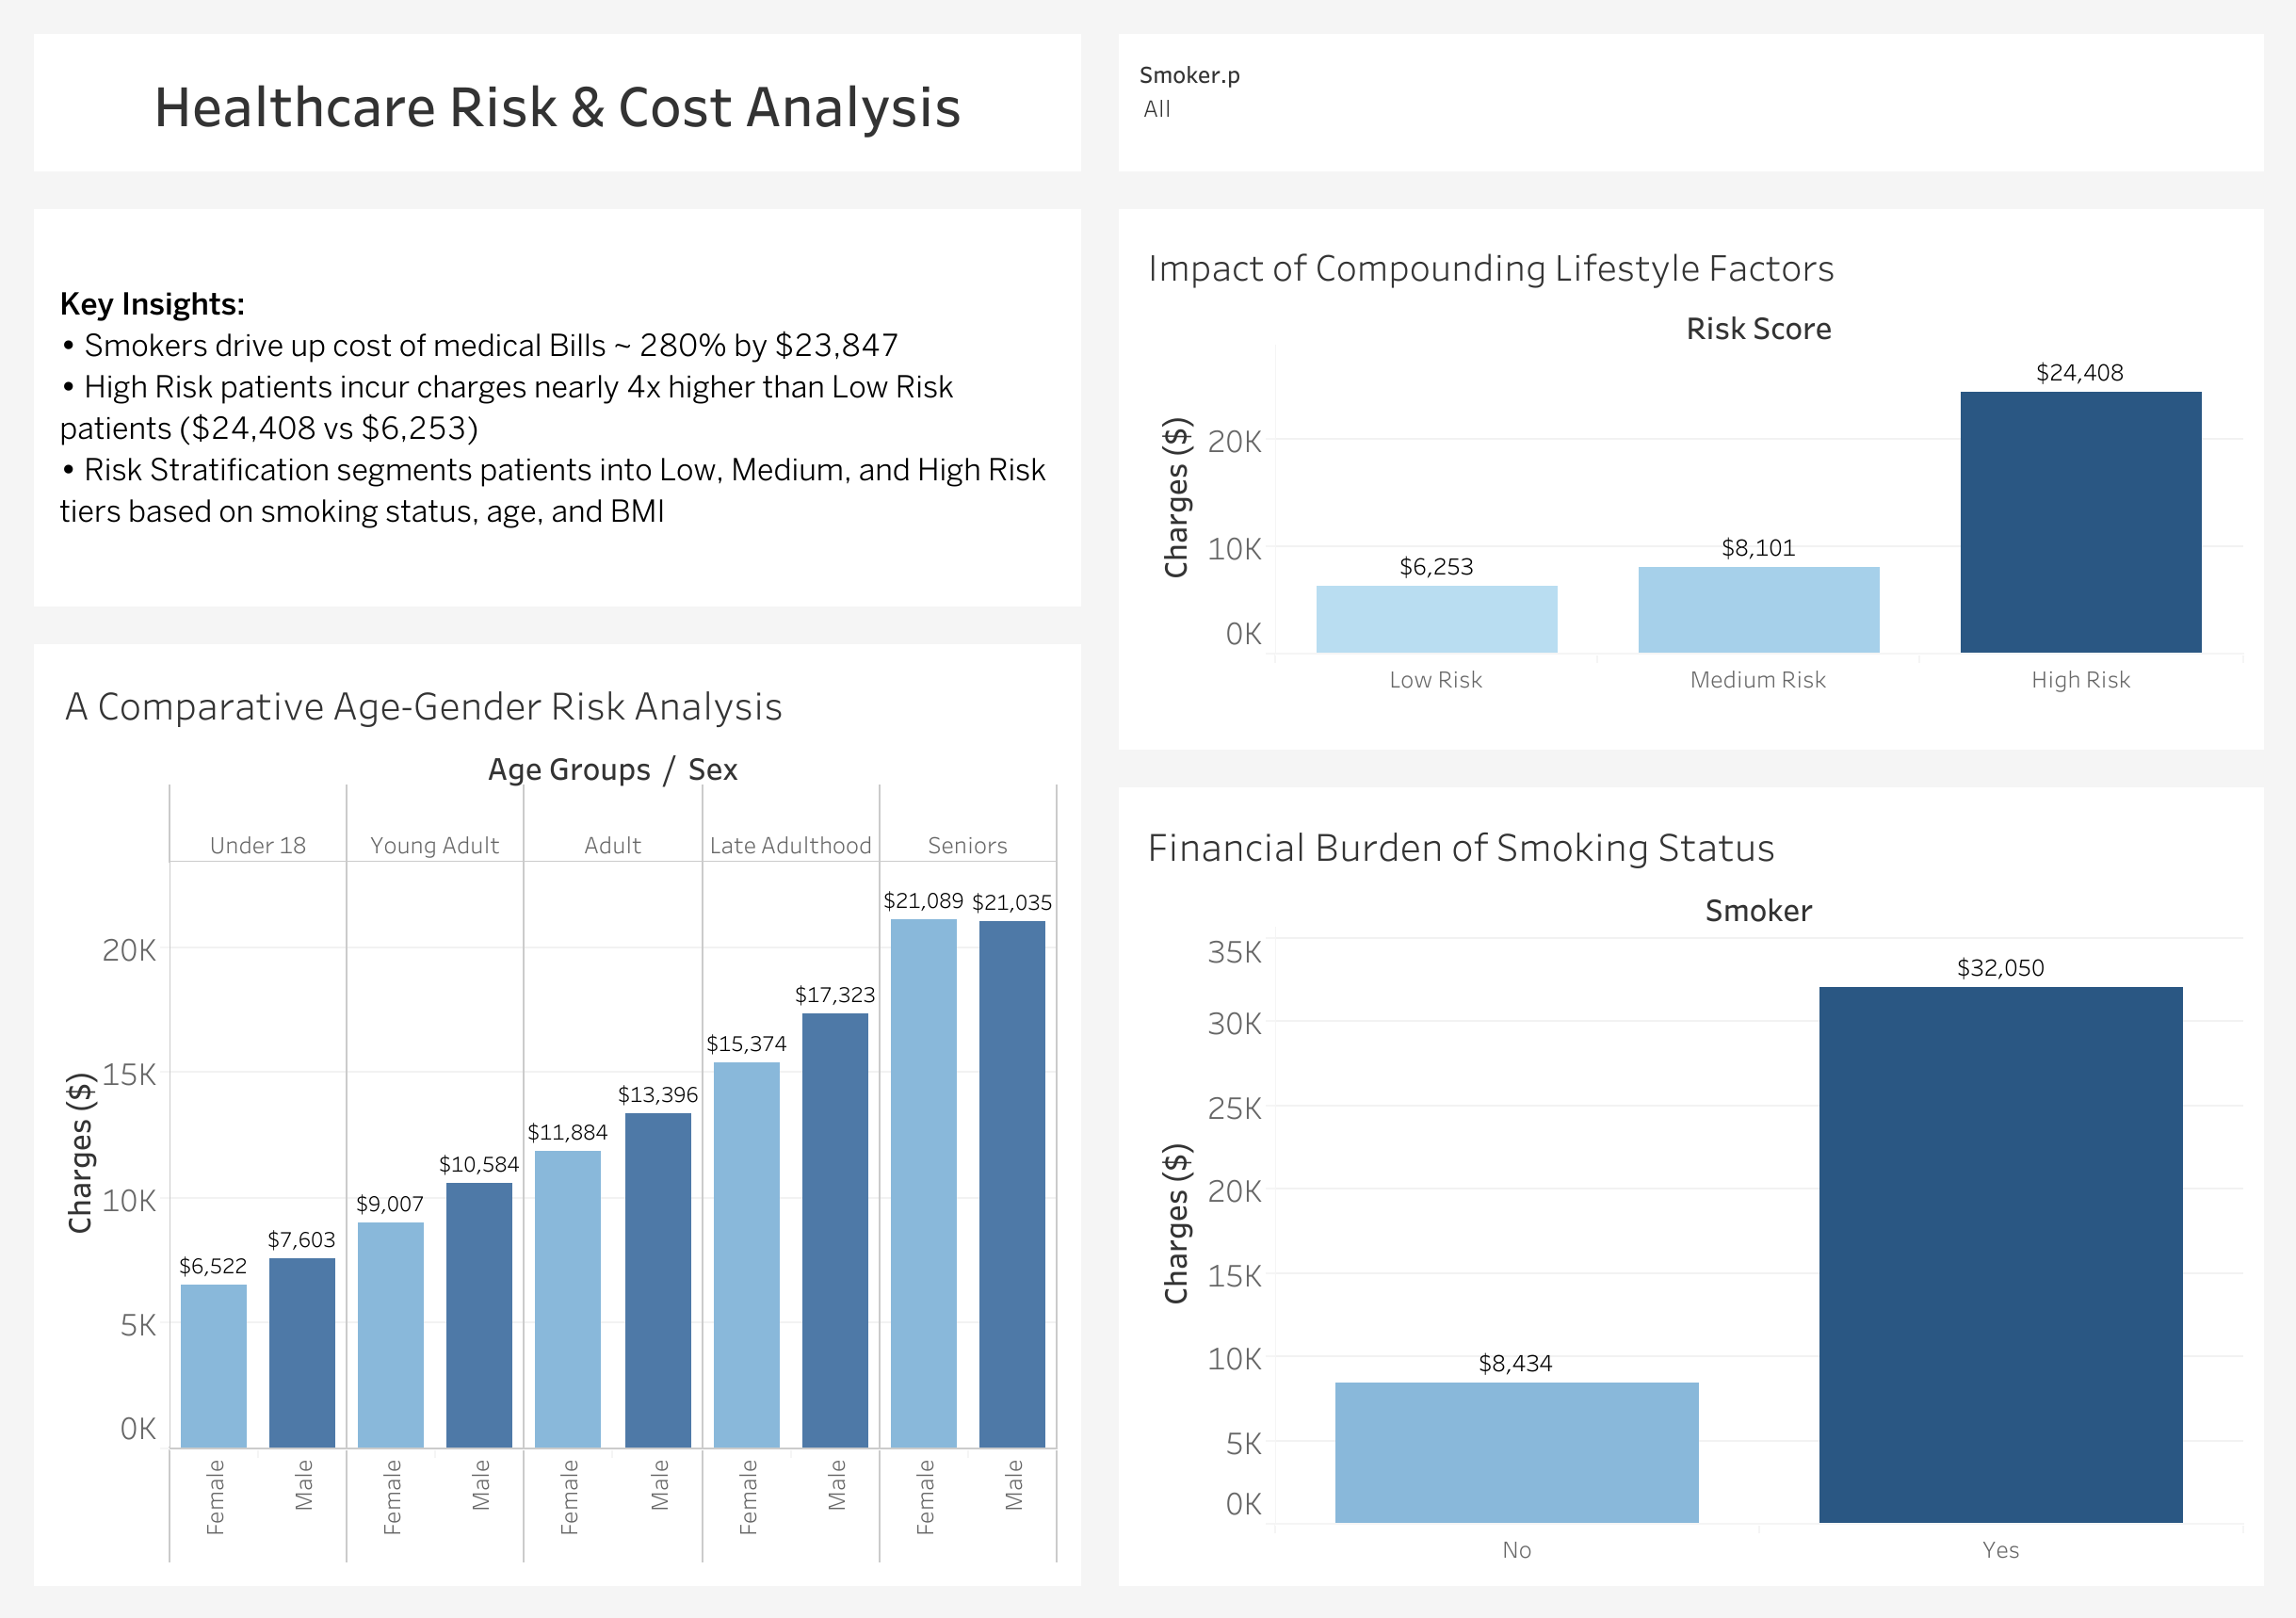

Layout of this report page (visuals, bound fields, positions):
{"tool":"tableau","page":{"name":"Dashboard 1","canvas":[1000,1000],"units":"permille","ordinal":0},"visuals":[{"type":"text","box":[6.6,12.1,472.1,107.2]},{"type":"parameter","param":"[Parameters].[Parameter 1]","box":[478.7,12.1,514.8,107.4]},{"type":"text","box":[6.6,119.4,472.1,267]},{"type":"worksheet","title":"Impact of Compounding Lifestyle Factors","mark":"Automatic","rows":["charges"],"cols":["Calculation_2081366724548612099"],"box":[478.7,119.5,514.8,354.6]},{"type":"worksheet","title":"A Comparative Age-Gender Risk Analysis","mark":"Automatic","rows":["charges"],"cols":["Calculation_1940910711150387201","sex"],"box":[6.6,386.4,472.1,601.5]},{"type":"worksheet","title":"Financial Burden of Smoking Status","mark":"Bar","rows":["charges"],"cols":["smoker"],"box":[478.7,474.1,514.8,513.8]}]}

Visuals, with their boxes on the dashboard's canvas, which has no fixed pixel size, in thousandths of its width and height (x1, y1, x2, y2). These are canvas units, not pixel positions in the 2296x1618 screenshot, which may show the page scaled, cropped or inside an application window:
text: region(7, 12, 479, 119)
parameter: region(479, 12, 994, 120)
text: region(7, 119, 479, 386)
"Impact of Compounding Lifestyle Factors" worksheet: region(479, 120, 994, 474)
"A Comparative Age-Gender Risk Analysis" worksheet: region(7, 386, 479, 988)
"Financial Burden of Smoking Status" worksheet (Bar marks): region(479, 474, 994, 988)
